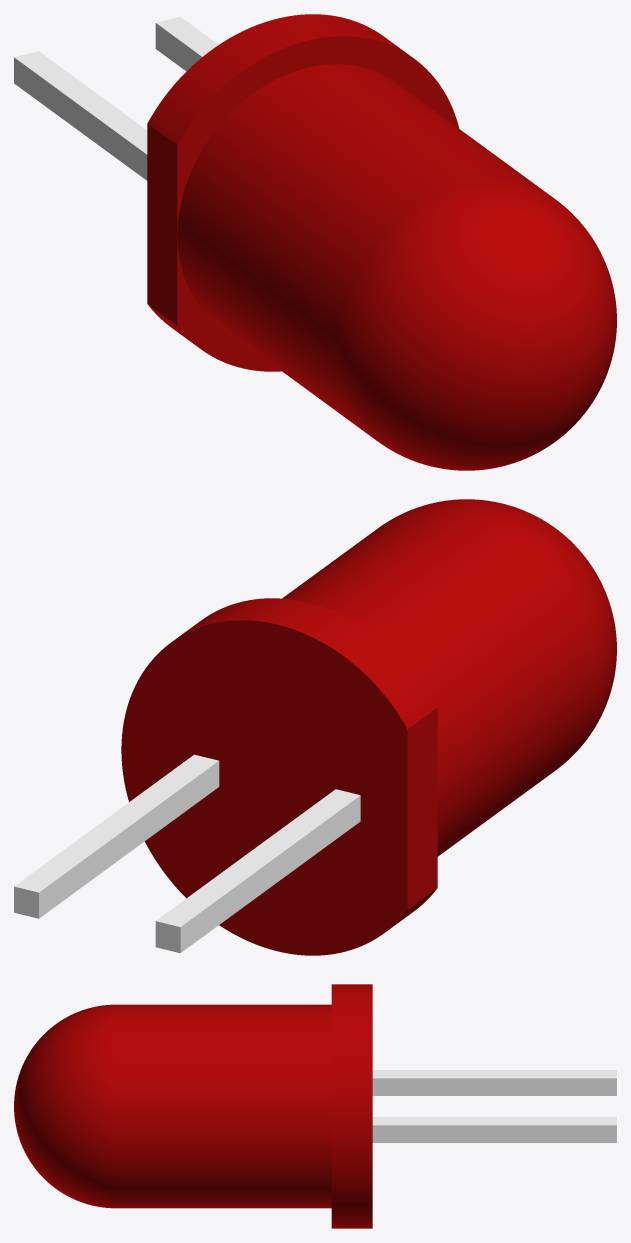
The model's file is LED5MM_SHORT.obj.
The picture shows the model from 3 angles, top to bottom: view 1: azimuth 30°, elevation 25°; view 2: azimuth 150°, elevation 25°; view 3: azimuth 270°, elevation 25°; orthographic projection. The views are drawn at different scales.
Visible parts, largest first — view 1: Solid1; view 2: Solid1; view 3: Solid1.
Boxes of the visible parts, x1=… form: Solid1: x1=14, y1=14, x2=616, y2=470; Solid1: x1=14, y1=499, x2=616, y2=955; Solid1: x1=14, y1=984, x2=616, y2=1228.
Size of the model in its own units: 5.5 by 6 by 14.8.
